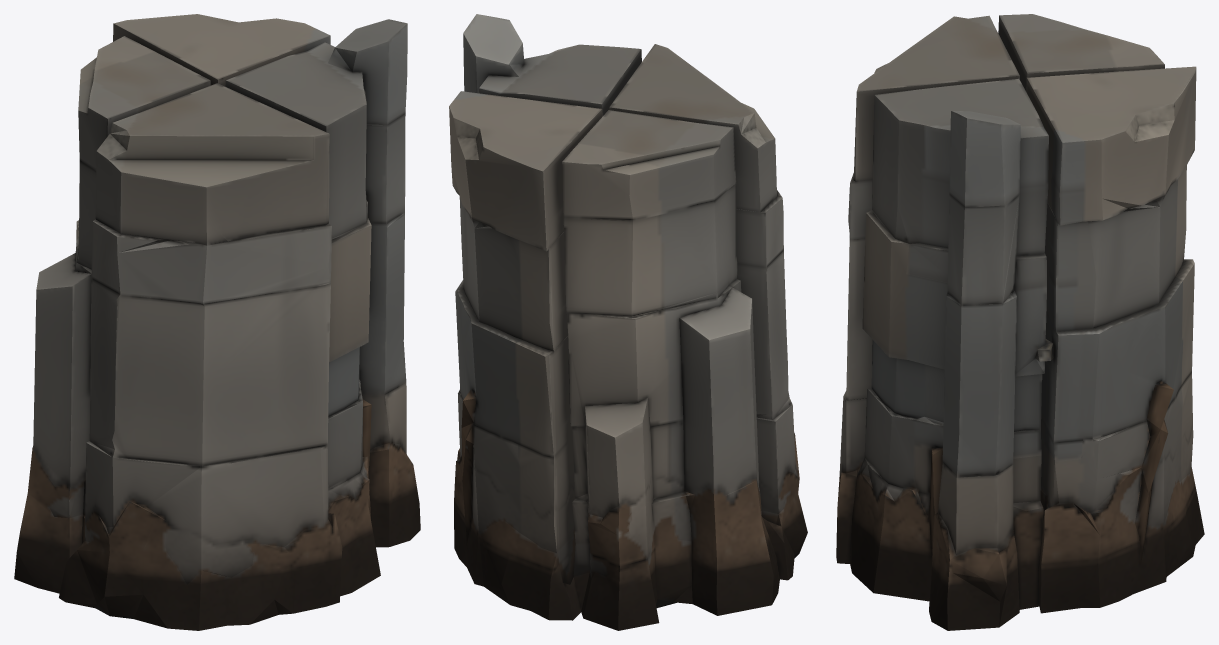
The model's file is earth_column_b.glb.
3 views of the same model, side by side, from view 1: azimuth 30°, elevation 25°; view 2: azimuth 150°, elevation 25°; view 3: azimuth 270°, elevation 25° (orthographic). The views are drawn at different scales.
Parts seen in each view (by area): view 1: earth_column_b_LOD0; view 2: earth_column_b_LOD0; view 3: earth_column_b_LOD0.
Part boxes in pixels (x1,y1,x2,y2): earth_column_b_LOD0: (14,14,420,630); earth_column_b_LOD0: (449,14,807,630); earth_column_b_LOD0: (836,14,1204,630).
Size of what is drawn, in the model's own units: 5.28 by 7.13 by 4.66.
Materials: 1 (1 with a texture image).
